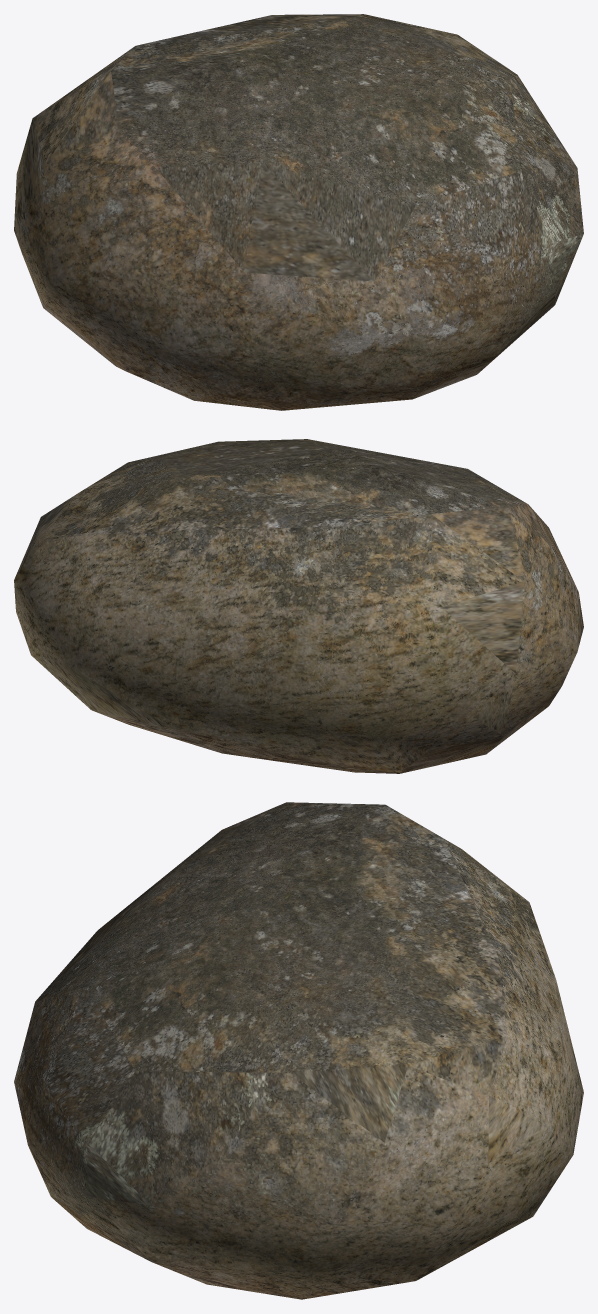
The model's file is batu kecil 1.fbx.
3 renders of one model, top to bottom at view 1: azimuth 30°, elevation 25°; view 2: azimuth 150°, elevation 25°; view 3: azimuth 270°, elevation 25°, orthographic. The views are drawn at different scales.
Visible parts, largest first — view 1: batu kecil 1; view 2: batu kecil 1; view 3: batu kecil 1.
Part boxes in pixels (x1,y1,x2,y2): batu kecil 1: (14, 14, 583, 410); batu kecil 1: (14, 439, 583, 773); batu kecil 1: (14, 802, 583, 1299).
Size of the model in its own units: 30.86 by 16.77 by 25.57.
